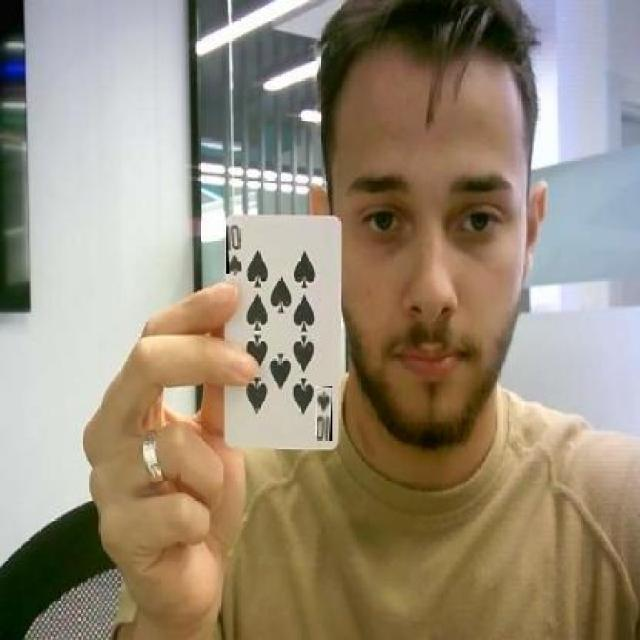10S: (317, 386, 332, 440), (227, 221, 242, 274)
